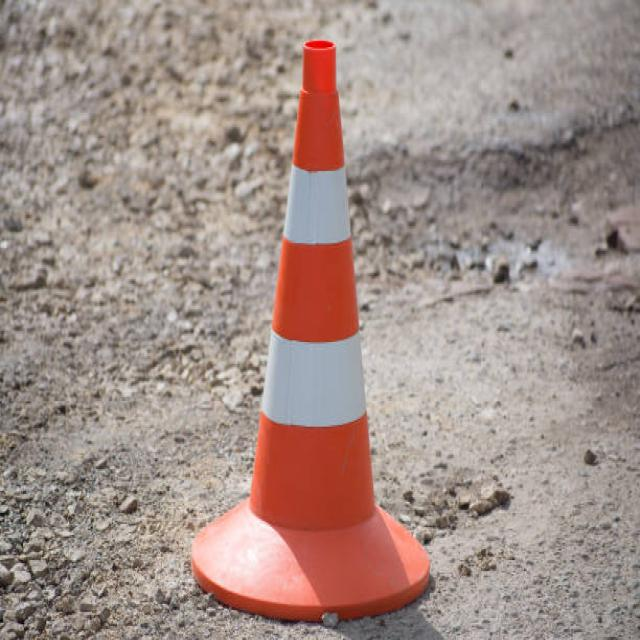Traffic Cone: (178, 15, 450, 632)
